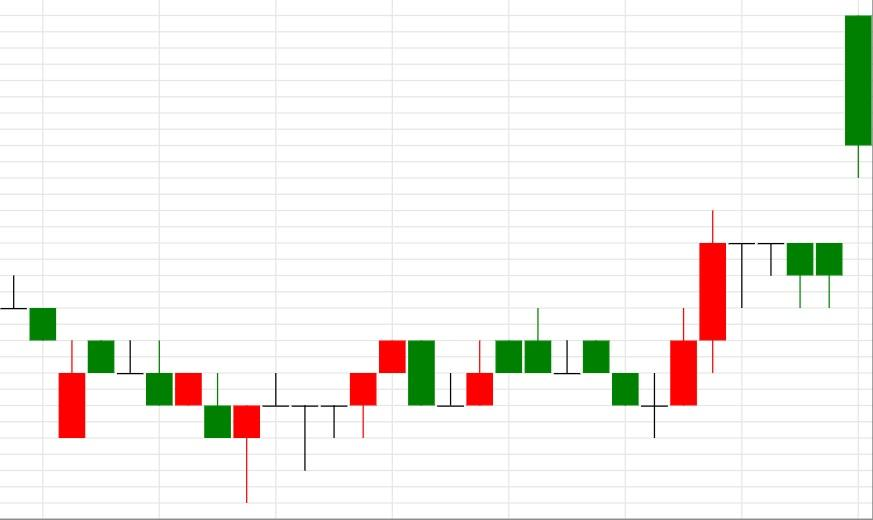hammer_rise: (87, 339, 261, 503)
morning_star_rise: (523, 309, 699, 438)
